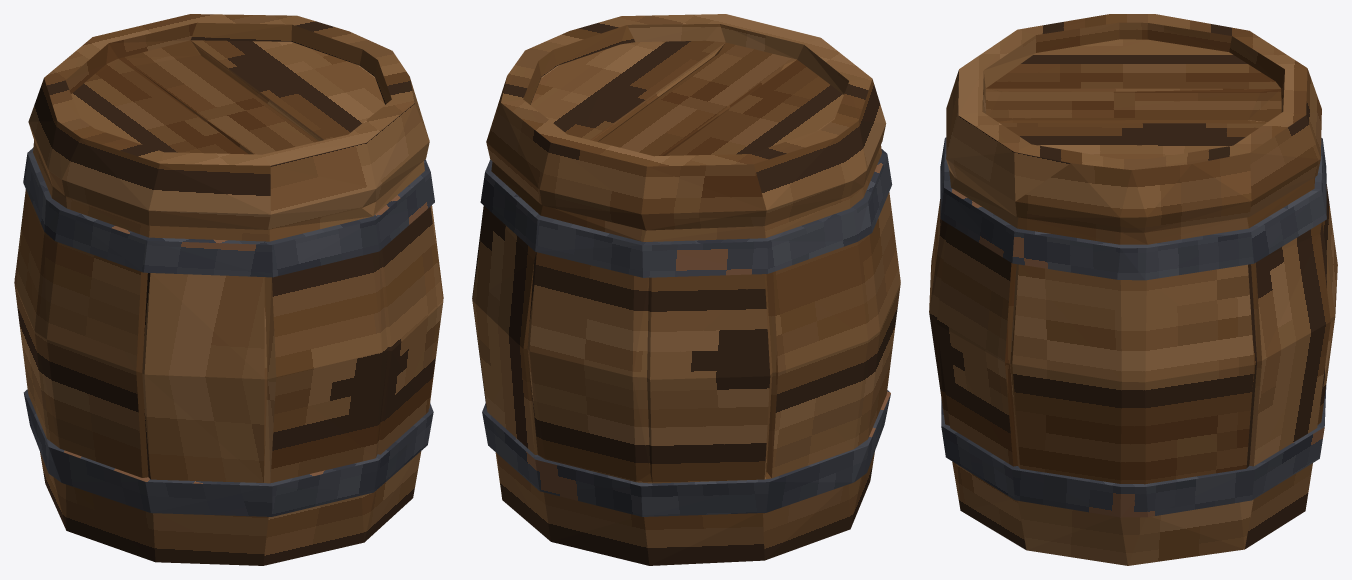
Rendered from OBS_cenario_barril_2.glb.
The picture shows the model from 3 angles, left to right: view 1: azimuth 30°, elevation 25°; view 2: azimuth 150°, elevation 25°; view 3: azimuth 270°, elevation 25°; orthographic projection.
Visible parts, largest first — view 1: model; view 2: model; view 3: model.
Boxes of the visible parts, <box> form: model: <box>14,14,443,565</box>; model: <box>472,14,900,565</box>; model: <box>929,14,1337,565</box>.
Bounding box in the file's own units: 0.981 × 1 × 0.9332.
Materials: 2 (2 with a texture image).
